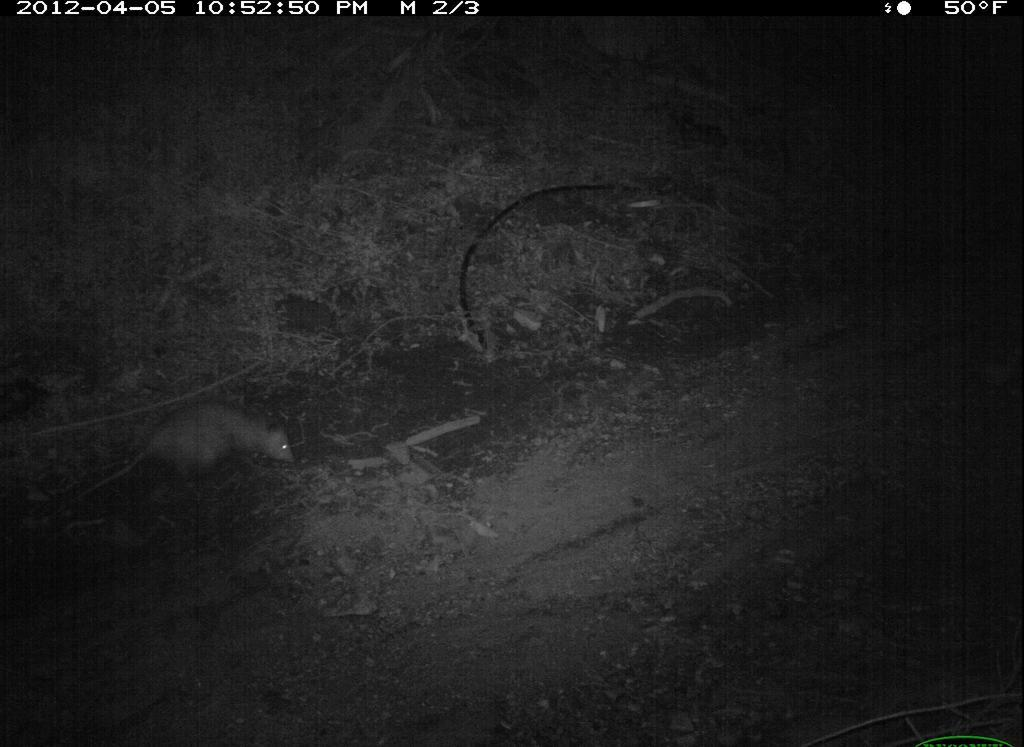opossum: (48, 382, 361, 518)
